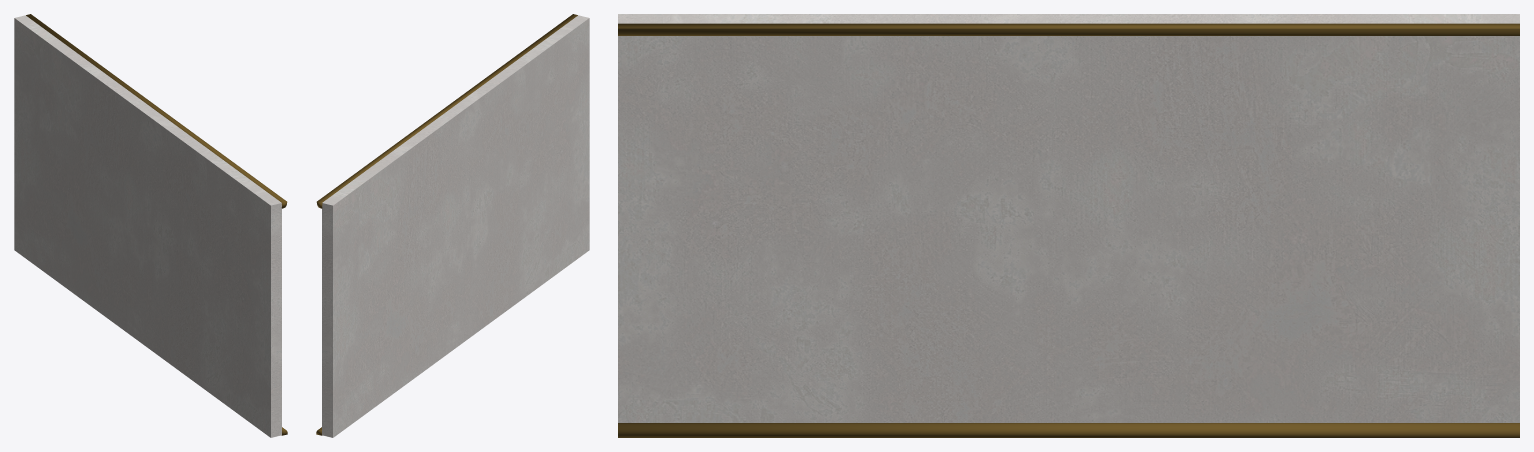
File: Wall8x8.glb
The picture shows the model from 3 angles, left to right: view 1: azimuth 30°, elevation 25°; view 2: azimuth 150°, elevation 25°; view 3: azimuth 270°, elevation 25°; orthographic projection. The views are drawn at different scales.
Parts seen in each view (by area): view 1: Wall-8x4; view 2: Wall-8x4; view 3: Wall-8x4.
Part boxes in pixels (x1,y1,x2,y2): Wall-8x4: (14,14,287,437); Wall-8x4: (316,14,589,437); Wall-8x4: (618,14,1519,437).
Size of the model in its own units: 0.3001 by 4.01 by 8.
2 materials, 1 textured.
